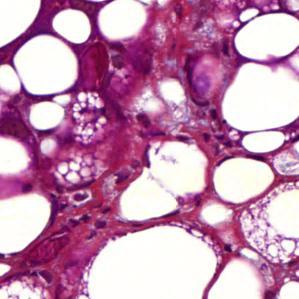steatosis: (211, 156, 280, 204), (48, 6, 94, 44), (29, 99, 68, 130)
